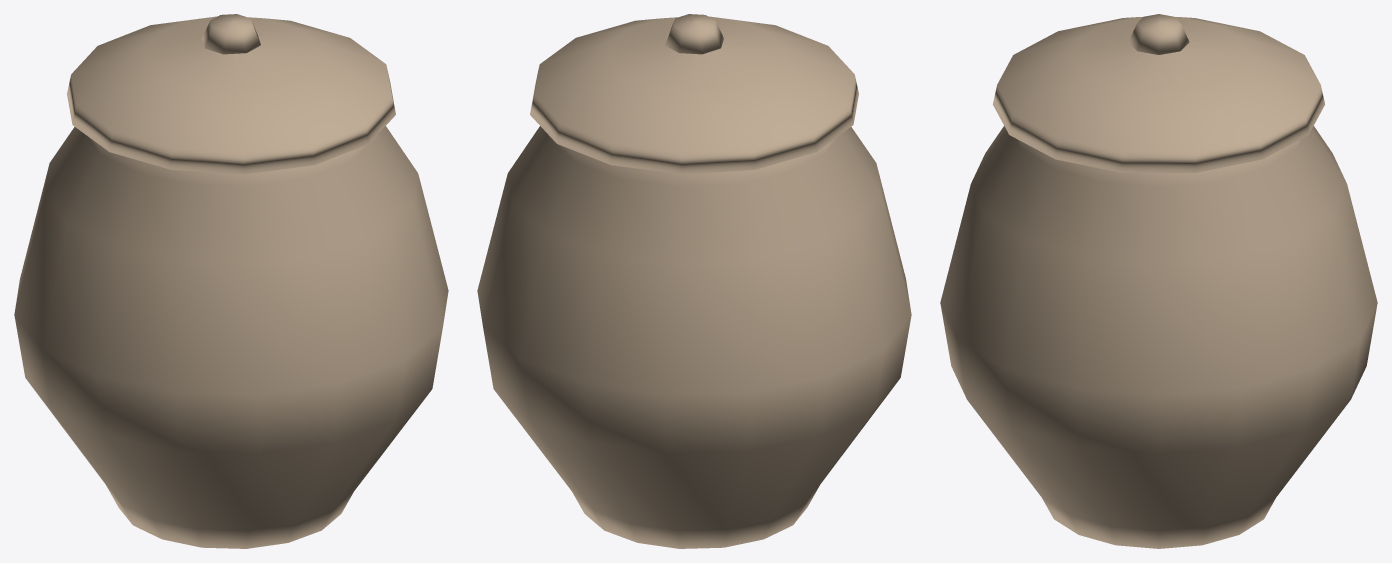
File: korean-hanok-village-and-street-onggi-jar-medium-106bc5df__38061.glb
3 renders of one model, left to right at view 1: azimuth 30°, elevation 25°; view 2: azimuth 150°, elevation 25°; view 3: azimuth 270°, elevation 25°, orthographic.
Parts seen in each view (by area): view 1: onggi-jar-medium, jar-lid; view 2: onggi-jar-medium, jar-lid; view 3: onggi-jar-medium, jar-lid.
Boxes of the visible parts, left/top/right/bottom form: onggi-jar-medium: left=14, top=126, right=448, bottom=548; jar-lid: left=67, top=14, right=395, bottom=174; onggi-jar-medium: left=477, top=126, right=911, bottom=548; jar-lid: left=530, top=14, right=858, bottom=174; onggi-jar-medium: left=940, top=126, right=1377, bottom=548; jar-lid: left=993, top=14, right=1324, bottom=172.
Size of the model in its own units: 0.58 by 0.7018 by 0.58.
